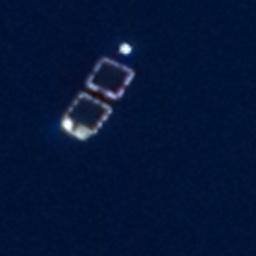square_solid: (59, 89, 117, 145), (82, 55, 137, 103)
